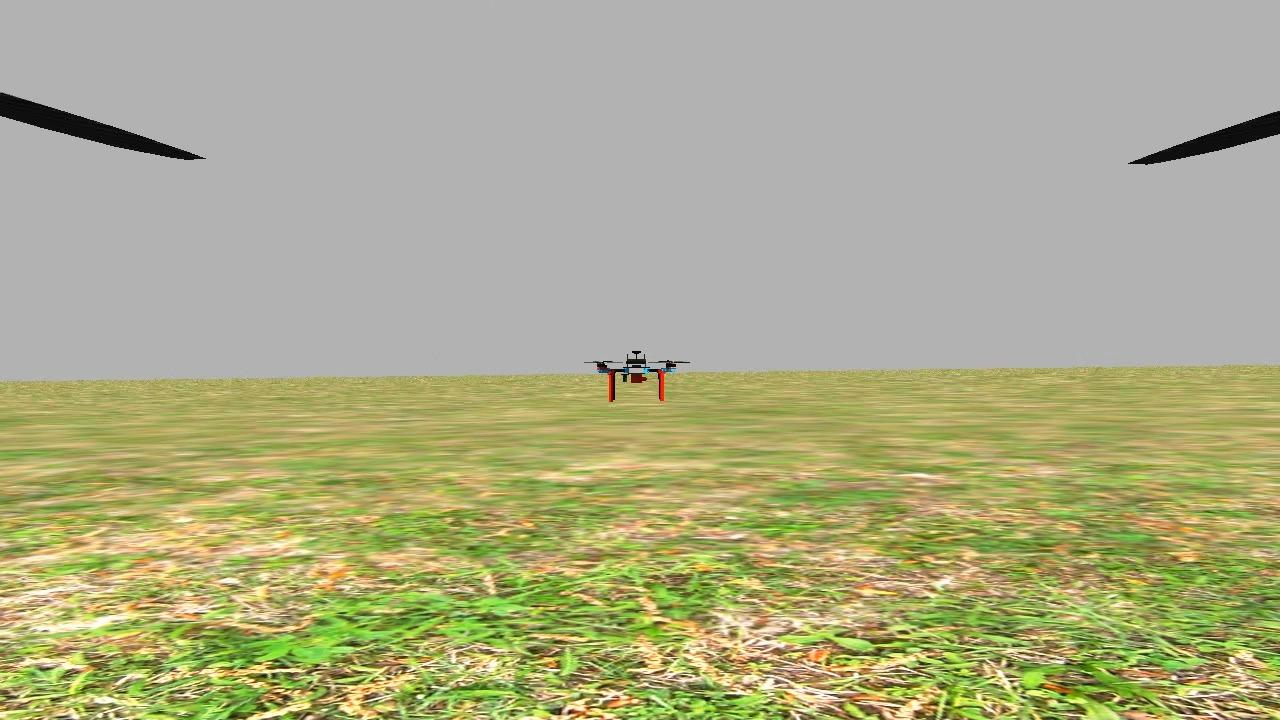UAV: (586, 345, 688, 414)
